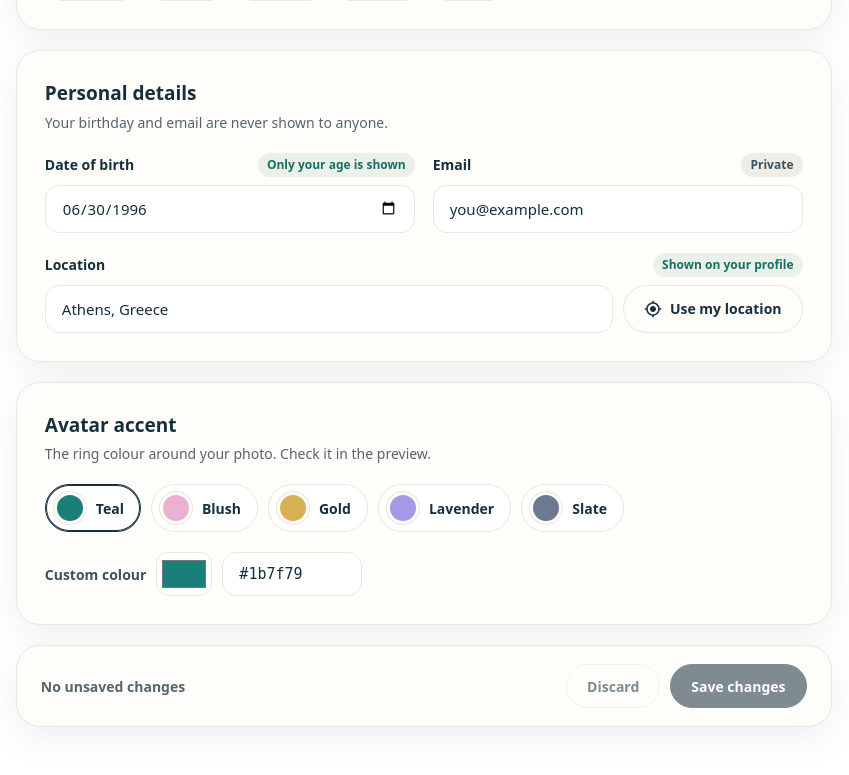
Test: EditProfilePage › blocks saving an invalid ring colour
(page scrolled)
In the field named "Hex value": (292, 574) [222,552,362,596], type "#12"
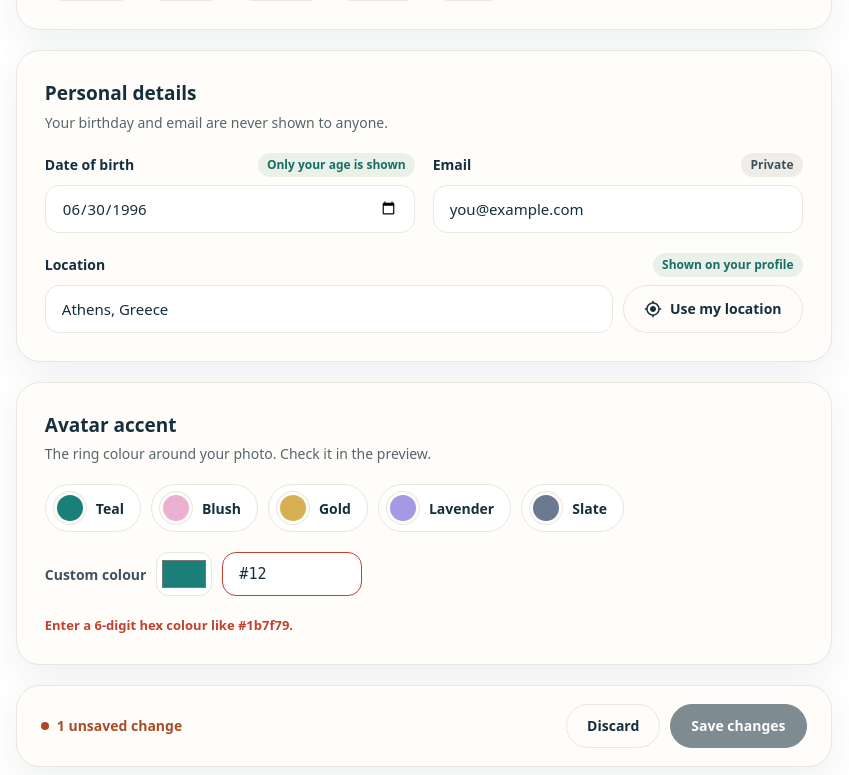
Expected: the button "Save changes" is disabled, [670,704,806,748]
Result: the text "Enter a 6-digit hex colour like #1b7f79." is shown at [45,616,293,634]
